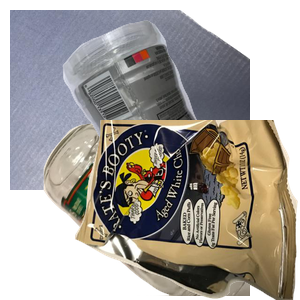cardboard: (10, 10, 250, 190)
glass: (41, 120, 281, 300)
plastic: (60, 18, 300, 198)
trash: (75, 120, 300, 300)
